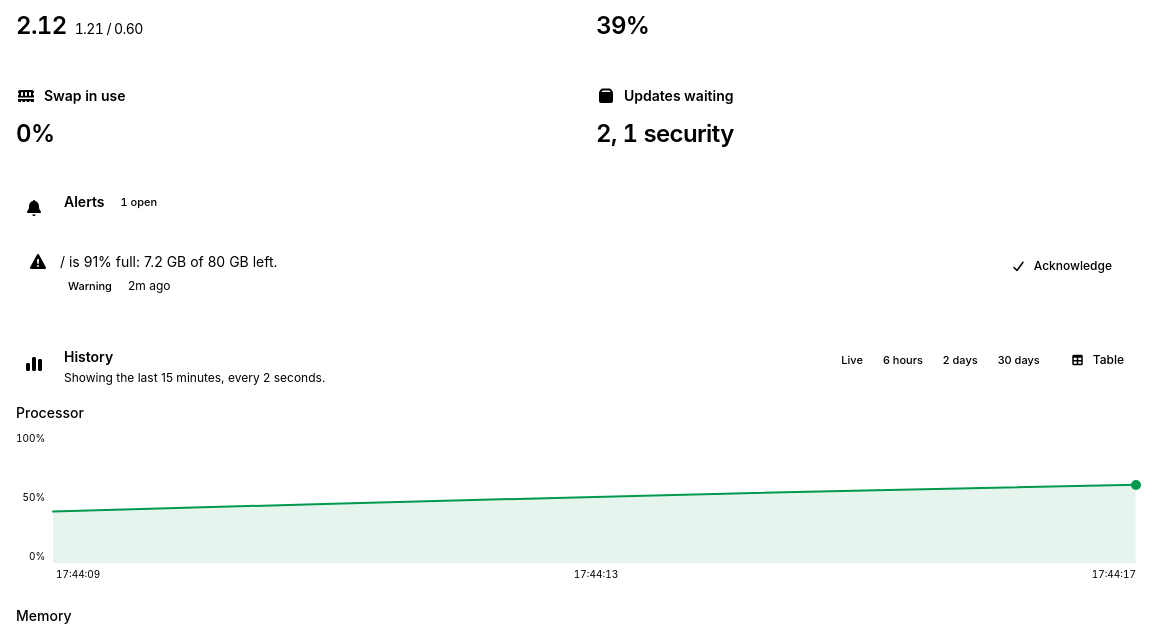
Test case: OverviewPanel states › adds every live sample to the charts and the table
(page scrolled)
Click the button "Table": [1097, 360] box [1058, 346, 1136, 374]
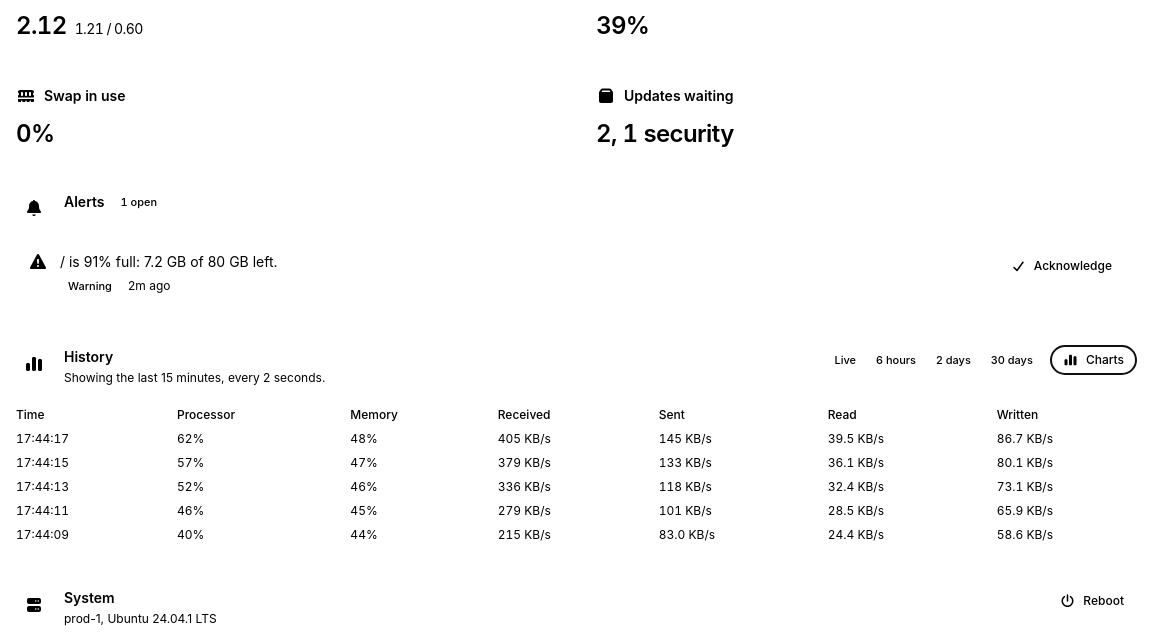
Result: the number of rows is 6 at [16, 403, 1136, 427]; [16, 427, 1136, 451]; [16, 451, 1136, 475]; [16, 475, 1136, 499]; [16, 499, 1136, 523]; [16, 523, 1136, 547]
